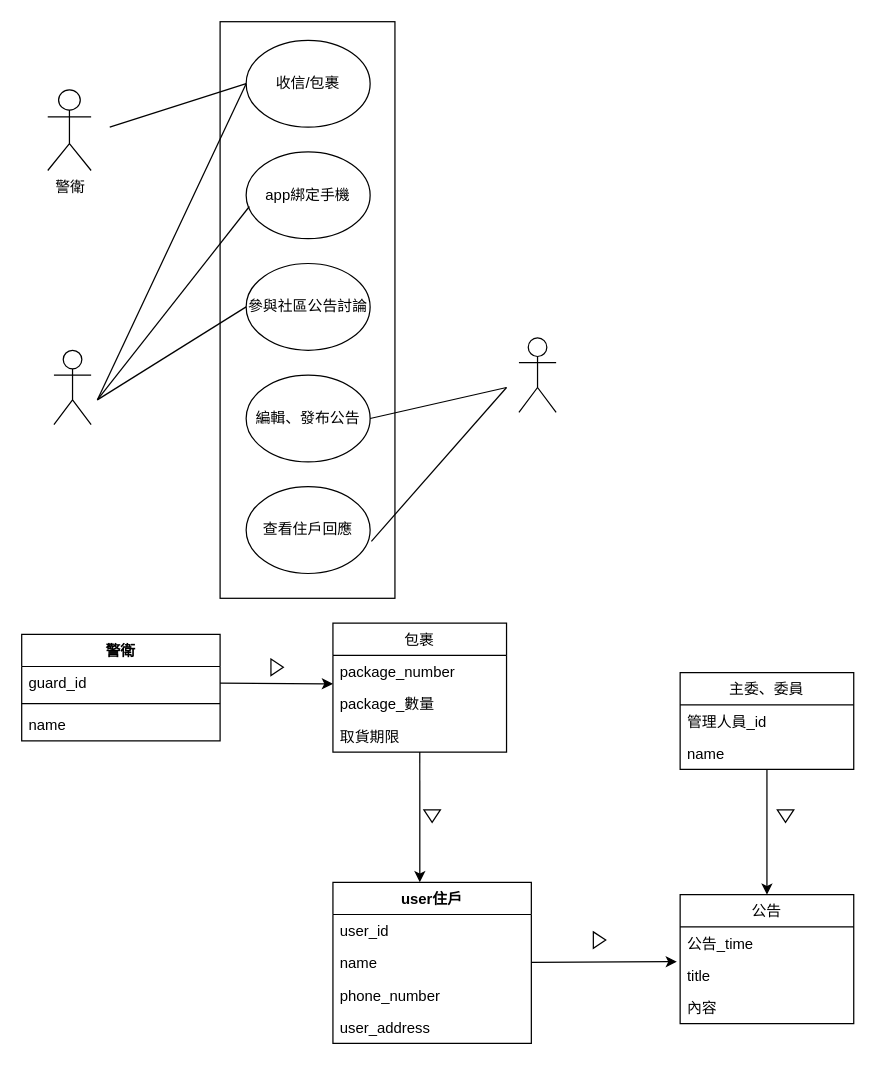
The diagram is 875 pixels wide and 1069 high, and some of its shapes have lost their labels. Each missing label, with the centre of its shape:
主任委員、委員: point 537,374
住戶: point 72,387
